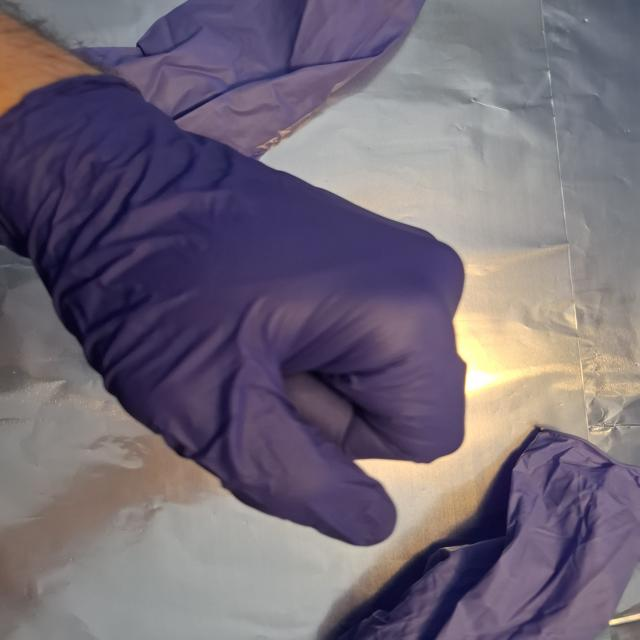glove_on: (0, 67, 472, 554)
